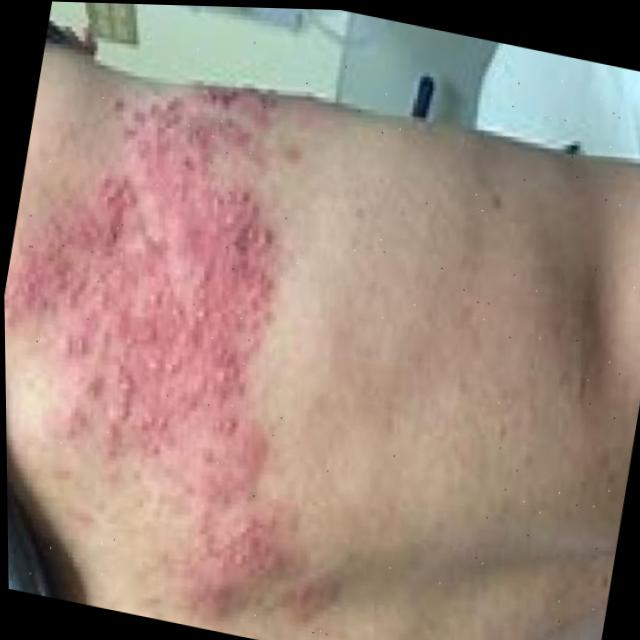Shingles: (0, 30, 386, 592)
